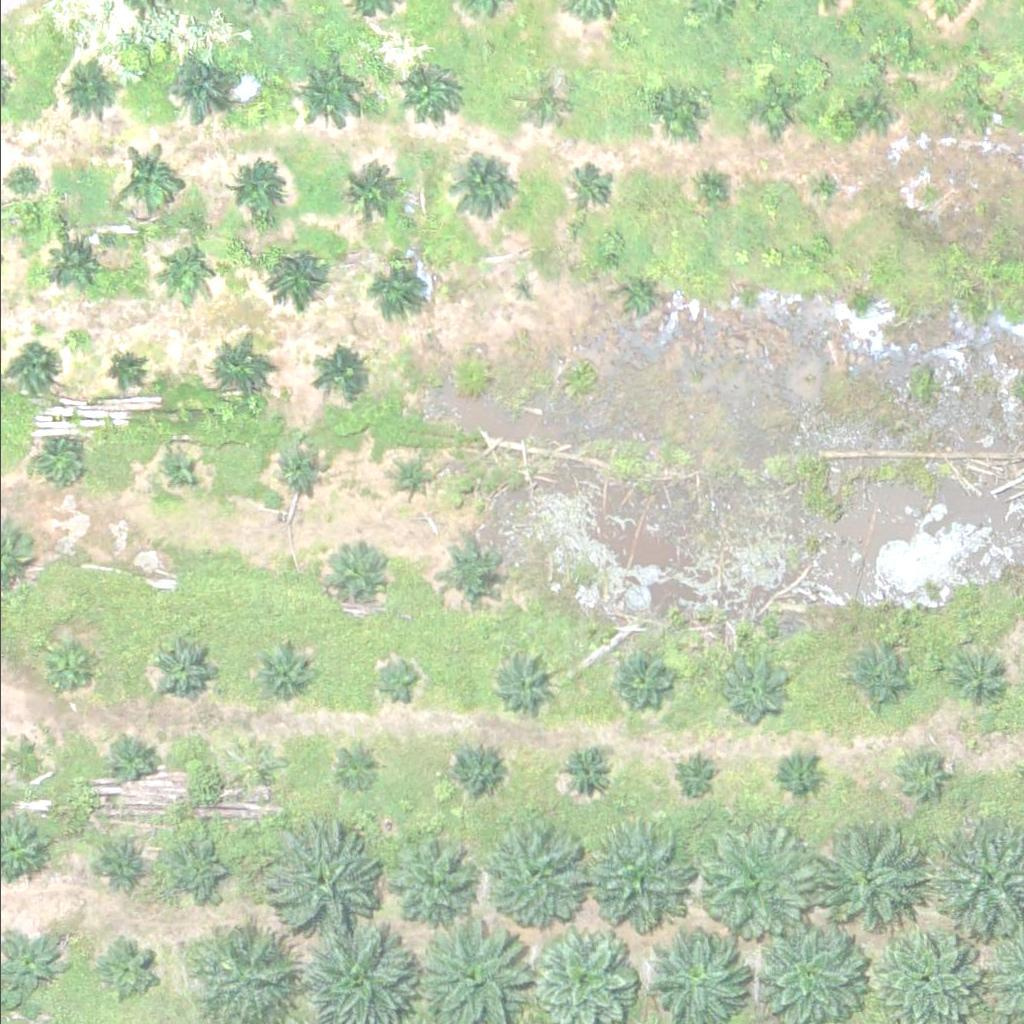Kelapa_Sawit: (257, 818, 383, 943), (693, 827, 807, 940), (818, 825, 931, 938), (574, 820, 688, 932), (489, 826, 590, 926), (385, 836, 473, 924), (207, 151, 283, 226), (288, 54, 364, 129), (435, 147, 511, 222), (333, 155, 409, 230), (105, 143, 181, 218), (157, 52, 232, 127), (719, 654, 794, 729), (327, 552, 390, 615), (443, 541, 506, 604), (371, 256, 434, 319), (51, 60, 114, 123), (46, 232, 109, 295), (604, 650, 667, 713), (255, 639, 318, 702), (150, 639, 213, 702), (36, 632, 99, 695), (554, 740, 617, 803), (209, 342, 272, 404), (309, 341, 372, 403), (264, 245, 326, 308), (397, 62, 460, 124), (642, 79, 705, 141), (944, 650, 1007, 712), (847, 649, 910, 711), (493, 651, 556, 713), (163, 839, 226, 901), (94, 943, 157, 1005), (442, 737, 505, 799), (741, 78, 804, 140), (899, 752, 950, 802), (97, 845, 148, 895), (337, 743, 388, 793), (240, 742, 291, 792), (111, 732, 162, 782), (375, 658, 426, 708), (775, 748, 826, 798), (561, 160, 612, 210), (167, 241, 217, 291), (4, 342, 54, 392), (37, 442, 87, 492), (278, 444, 328, 494), (517, 75, 567, 125), (668, 752, 718, 802), (614, 274, 664, 324), (392, 461, 430, 499), (154, 451, 192, 489), (452, 358, 490, 396), (804, 172, 842, 210), (852, 96, 890, 134), (961, 92, 999, 130), (103, 346, 141, 383), (700, 174, 726, 199), (511, 278, 536, 303)
